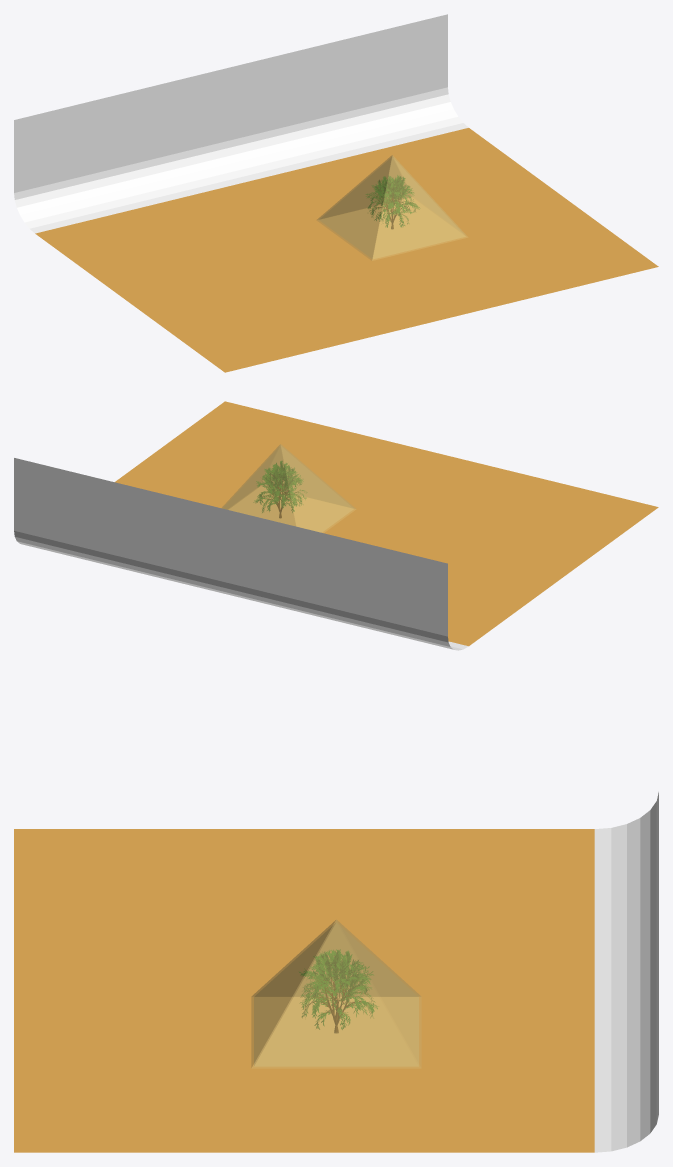
Rendered from TestPyramid.glb.
3 renders of one model, top to bottom at view 1: azimuth 30°, elevation 25°; view 2: azimuth 150°, elevation 25°; view 3: azimuth 270°, elevation 25°, orthographic. The views are drawn at different scales.
Parts seen in each view (by area): view 1: 平面, Cube, leaves; view 2: 平面, Cube, leaves; view 3: 平面, Cube, leaves.
Part boxes in pixels (<box>): 平面: <box>14,14,658,372</box>; Cube: <box>317,155,467,260</box>; leaves: <box>366,175,419,227</box>; 平面: <box>14,401,658,650</box>; Cube: <box>222,444,355,532</box>; leaves: <box>253,461,307,512</box>; 平面: <box>14,792,658,1152</box>; Cube: <box>251,919,421,1068</box>; leaves: <box>299,949,377,1029</box>.
Size of the model in its own units: 12.86 by 2.81 by 10.83.
